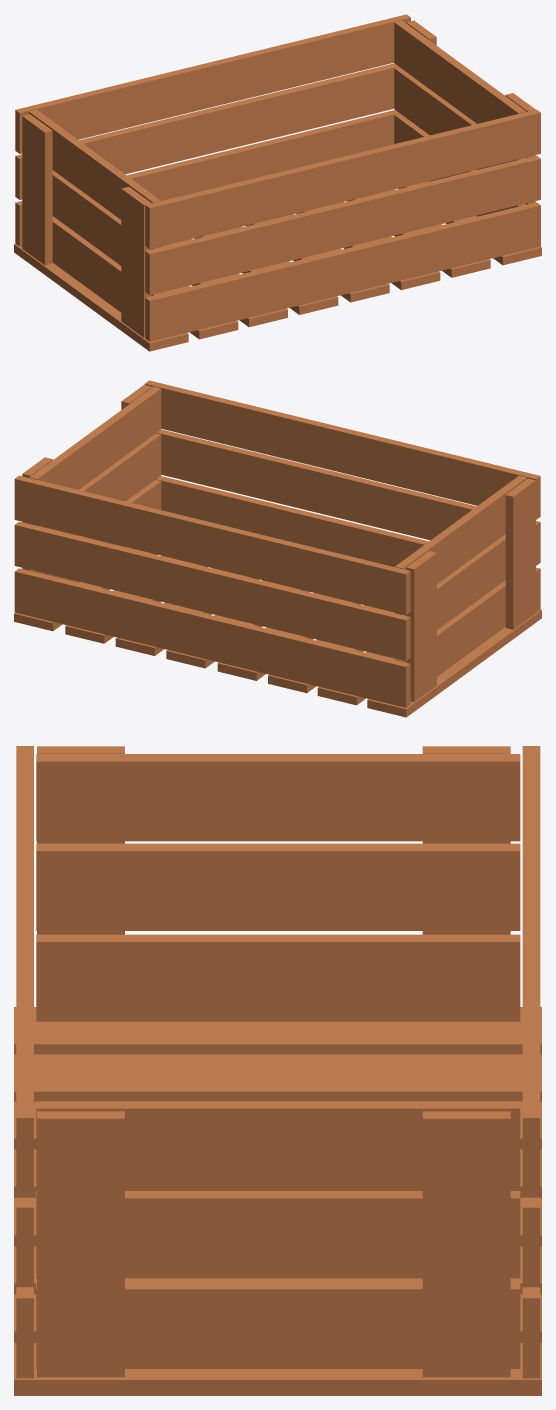
File: open_box_02_broken.fbx
3 views of the same model, one above another, from view 1: azimuth 30°, elevation 25°; view 2: azimuth 150°, elevation 25°; view 3: azimuth 270°, elevation 25° (orthographic). The views are drawn at different scales.
Parts seen in each view (by area): view 1: open-box-02_Part_5, open-box-02_Part_9, open-box-02_Part_2, open-box-02_Part_4, open-box-02_Part_8, open-box-02_Part_1, open-box-02_Part_3, open-box-02_Part_7, open-box-02_Part_6; view 2: open-box-02_Part_8, open-box-02_Part_2, open-box-02_Part_5, open-box-02_Part_9, open-box-02_Part_4, open-box-02_Part_1, open-box-02_Part_3, open-box-02_Part_7, open-box-02_Part_6; view 3: open-box-02_Part_9, open-box-02_Part_4, open-box-02_Part_7, open-box-02_Part_6, open-box-02_Part_8, open-box-02_Part_1, open-box-02_Part_3, open-box-02_Part_2, open-box-02_Part_5.
Boxes of the visible parts, box(x1,y1,x2,y2) form: open-box-02_Part_5: box(229, 138, 485, 327); open-box-02_Part_9: box(41, 139, 257, 351); open-box-02_Part_2: box(187, 59, 446, 192); open-box-02_Part_4: box(419, 60, 540, 256); open-box-02_Part_8: box(14, 68, 197, 271); open-box-02_Part_1: box(185, 14, 455, 90); open-box-02_Part_3: box(15, 98, 76, 220); open-box-02_Part_7: box(232, 98, 453, 236); open-box-02_Part_6: box(397, 118, 541, 269); open-box-02_Part_8: box(230, 529, 436, 717); open-box-02_Part_2: box(14, 472, 238, 674); open-box-02_Part_5: box(200, 408, 437, 633); open-box-02_Part_9: box(286, 449, 541, 697); open-box-02_Part_4: box(84, 380, 264, 520); open-box-02_Part_1: box(14, 437, 240, 535); open-box-02_Part_3: box(357, 537, 442, 644); open-box-02_Part_7: box(14, 479, 252, 643); open-box-02_Part_6: box(95, 490, 200, 565); open-box-02_Part_9: box(14, 746, 429, 1101); open-box-02_Part_4: box(16, 1006, 322, 1353); open-box-02_Part_7: box(220, 1180, 541, 1395); open-box-02_Part_6: box(14, 1207, 303, 1395); open-box-02_Part_8: box(405, 792, 541, 1173); open-box-02_Part_1: box(305, 907, 540, 1196); open-box-02_Part_3: box(362, 746, 540, 892); open-box-02_Part_2: box(322, 1171, 541, 1328); open-box-02_Part_5: box(14, 848, 372, 1326).
Bounding box in the file's own units: 100 × 34.84 × 60.
1 material, 1 textured.
